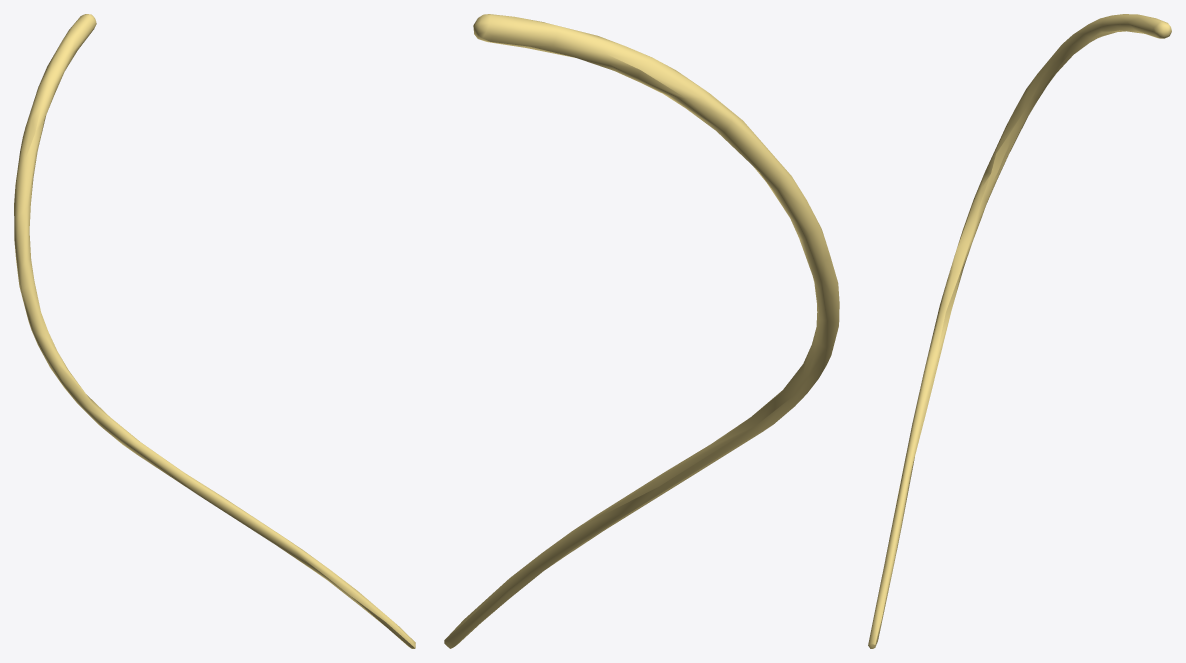
File: fma52677_fj3948.glb
The picture shows the model from 3 angles, left to right: view 1: azimuth 30°, elevation 25°; view 2: azimuth 150°, elevation 25°; view 3: azimuth 270°, elevation 25°; orthographic projection. The views are drawn at different scales.
Parts seen in each view (by area): view 1: FMA52677_FJ3948; view 2: FMA52677_FJ3948; view 3: FMA52677_FJ3948.
Part boxes in pixels (x1=…): FMA52677_FJ3948: x1=14, y1=14, x2=415, y2=648; FMA52677_FJ3948: x1=444, y1=14, x2=839, y2=648; FMA52677_FJ3948: x1=868, y1=14, x2=1171, y2=648.
Size of the model in its own units: 0.00755 by 0.0127 by 0.0064.
